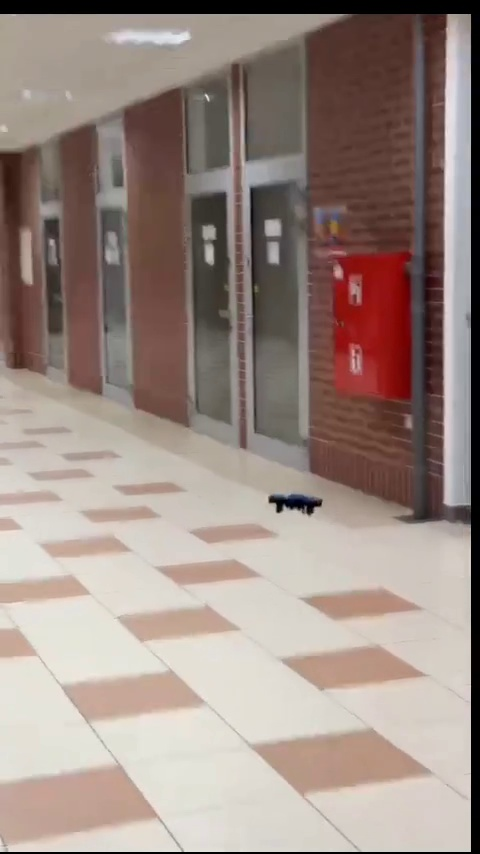drone: (271, 490, 327, 518)
